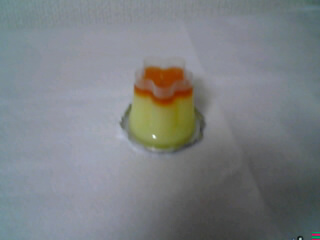001_classes: (113, 53, 214, 155)
